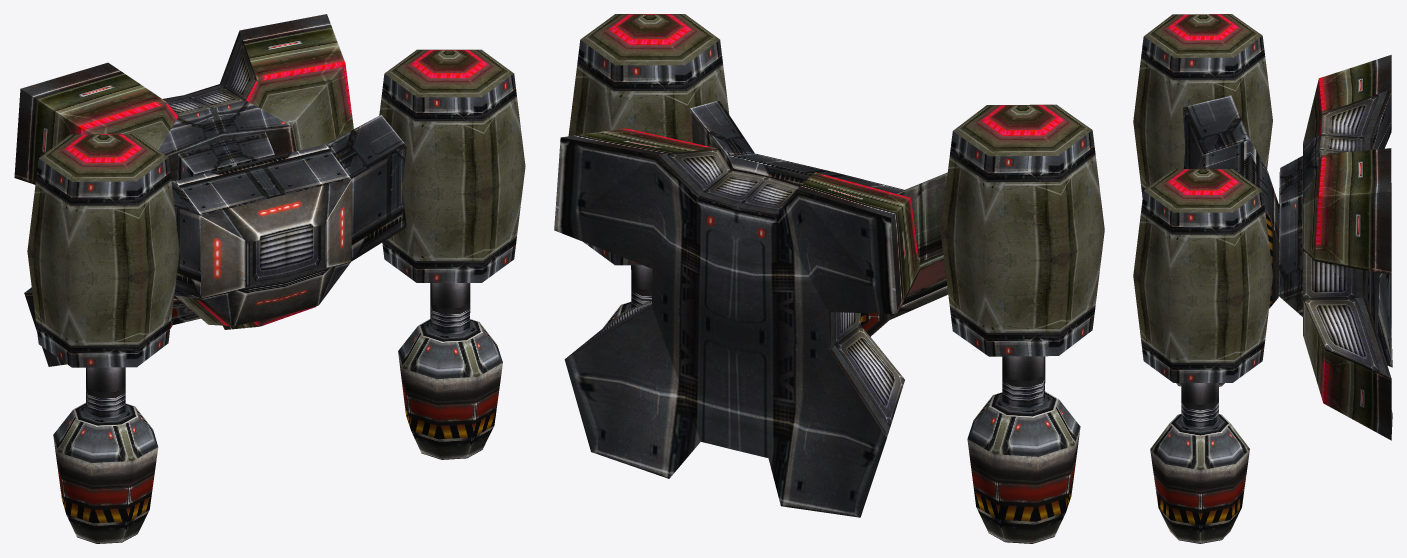
File: flame-thrower-01.obj
The picture shows the model from 3 angles, left to right: view 1: azimuth 30°, elevation 25°; view 2: azimuth 150°, elevation 25°; view 3: azimuth 270°, elevation 25°; orthographic projection. The views are drawn at different scales.
Parts seen in each view (by area): view 1: flame_thrower_01; view 2: flame_thrower_01; view 3: flame_thrower_01.
Part boxes in pixels (<box>): flame_thrower_01: <box>14,14,525,543</box>; flame_thrower_01: <box>554,14,1104,543</box>; flame_thrower_01: <box>1133,14,1392,543</box>.
Bounding box in the file's own units: 5.67 × 4.7 × 3.02.
Materials: 1 (1 with a texture image).
